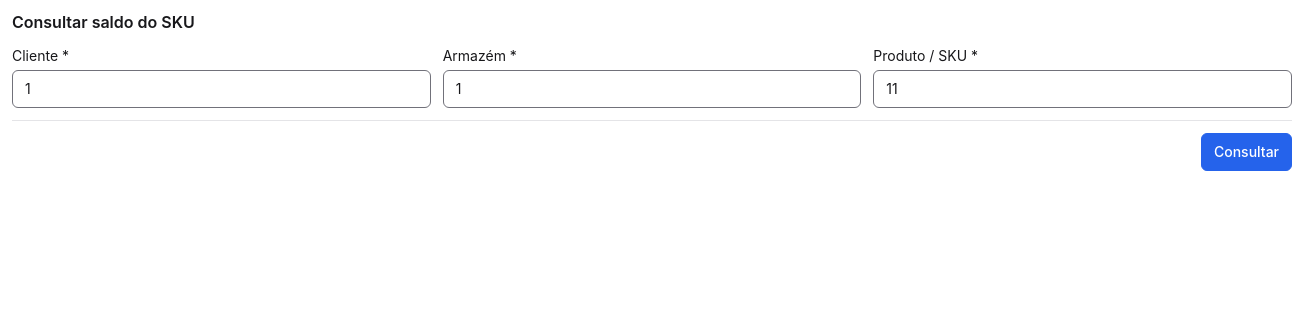
FE08 falha na consulta não vira vazio nem saldo zero
Click the button "Consultar": (1246, 152) [1201, 133, 1292, 171]
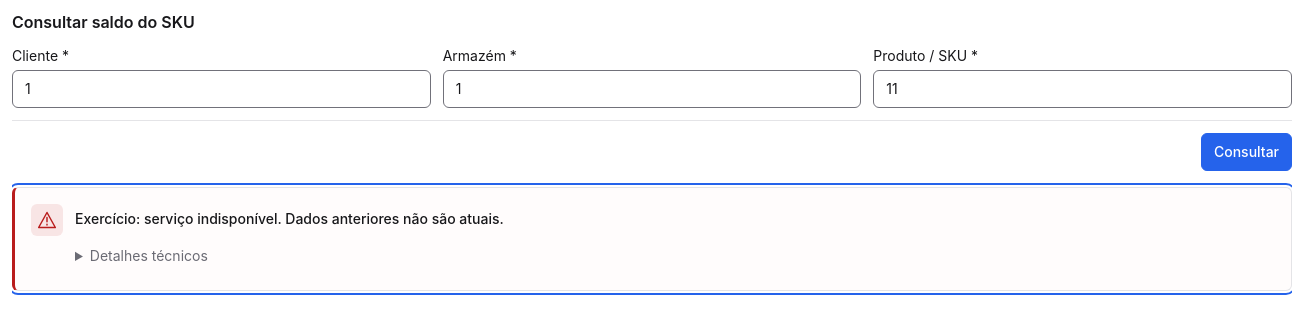
expect the text "serviço indisponível" is shown: met, box [75, 210, 504, 227]
